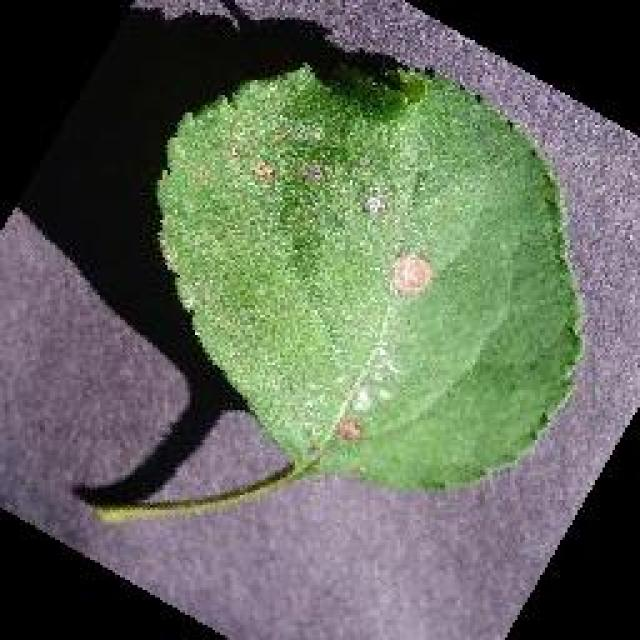Black_rot: (72, 55, 588, 523)
